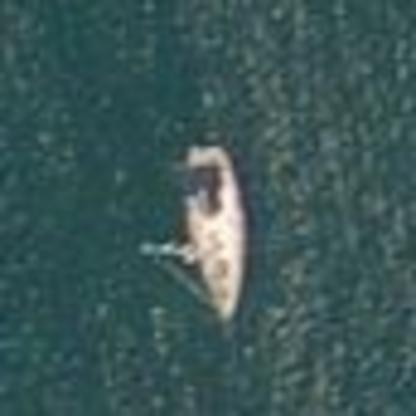ship: (124, 135, 294, 327)
